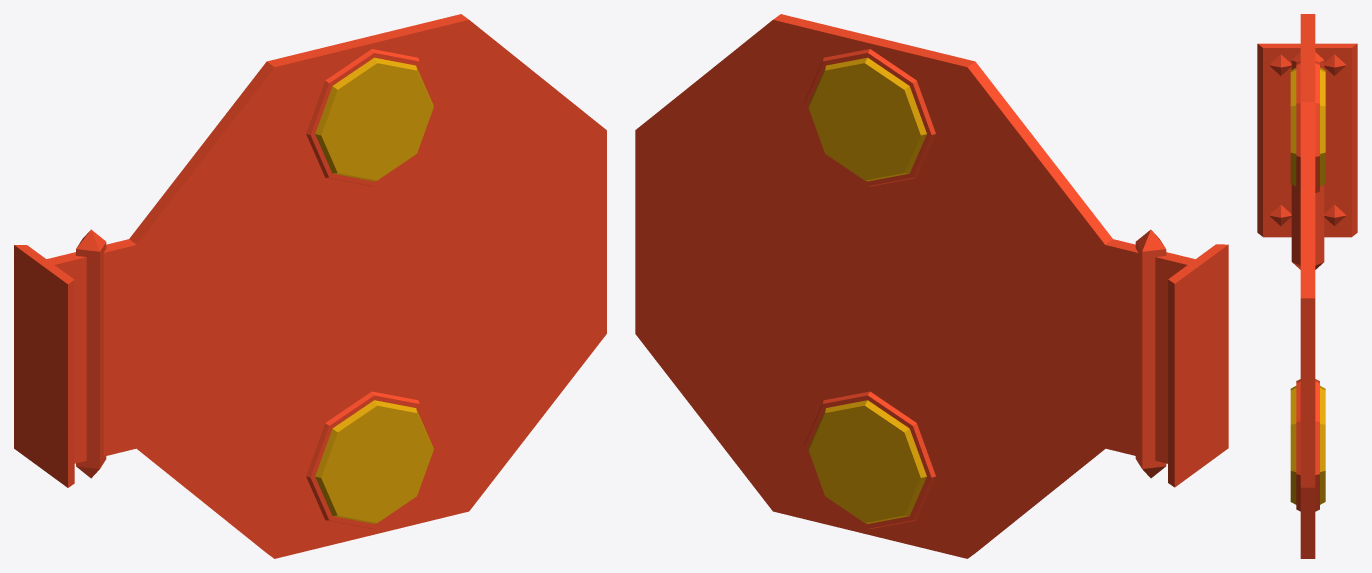
File: SM_Sign_School_Bus_City.fbx
3 renders of one model, left to right at view 1: azimuth 30°, elevation 25°; view 2: azimuth 150°, elevation 25°; view 3: azimuth 270°, elevation 25°, orthographic. The views are drawn at different scales.
Visible parts, largest first — view 1: SM_Sign_School_Bus_City_Arm, SM_Sign_School_Bus_City_Base; view 2: SM_Sign_School_Bus_City_Arm, SM_Sign_School_Bus_City_Base; view 3: SM_Sign_School_Bus_City_Arm, SM_Sign_School_Bus_City_Base.
Part boxes in pixels (x1=…): SM_Sign_School_Bus_City_Arm: x1=76, y1=14, x2=606, y2=558; SM_Sign_School_Bus_City_Base: x1=14, y1=245, x2=86, y2=487; SM_Sign_School_Bus_City_Arm: x1=635, y1=14, x2=1166, y2=558; SM_Sign_School_Bus_City_Base: x1=1155, y1=244, x2=1228, y2=487; SM_Sign_School_Bus_City_Arm: x1=1290, y1=14, x2=1325, y2=558; SM_Sign_School_Bus_City_Base: x1=1257, y1=43, x2=1357, y2=237.
Size of the model in its own units: 0.8045 by 0.6724 by 0.1335.
